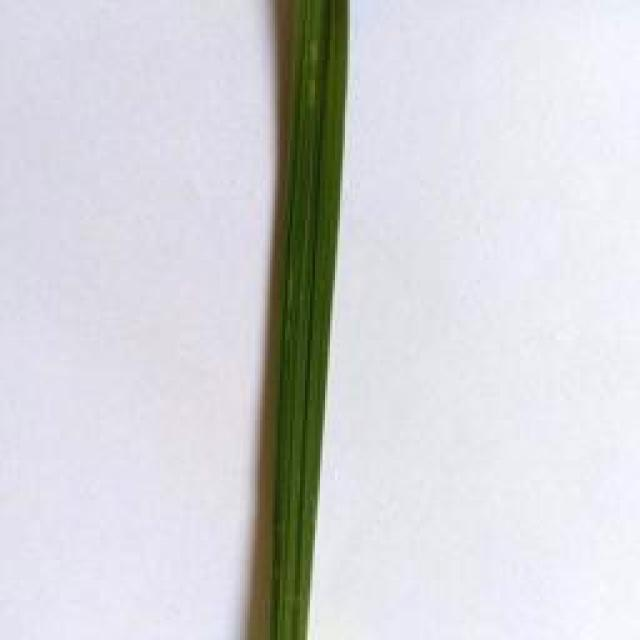Healthy-Plant: (269, 0, 346, 640)
